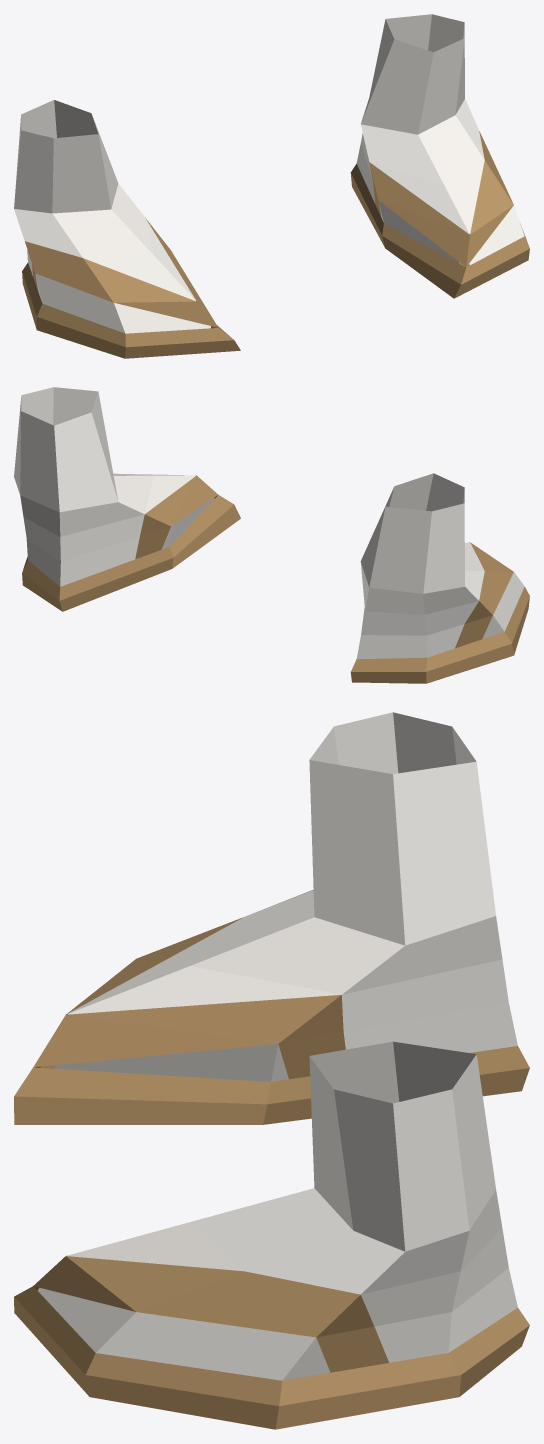
File: geta.fbx
The picture shows the model from 3 angles, top to bottom: view 1: azimuth 30°, elevation 25°; view 2: azimuth 150°, elevation 25°; view 3: azimuth 270°, elevation 25°; orthographic projection. The views are drawn at different scales.
Parts seen in each view (by area): view 1: Geta; view 2: Geta; view 3: Geta.
Part boxes in pixels (x1,y1,x2,y2): Geta: (14, 14, 529, 358); Geta: (14, 387, 529, 683); Geta: (14, 712, 529, 1429).
Bounding box in the file's own units: 105 × 36.24 × 54.5.
